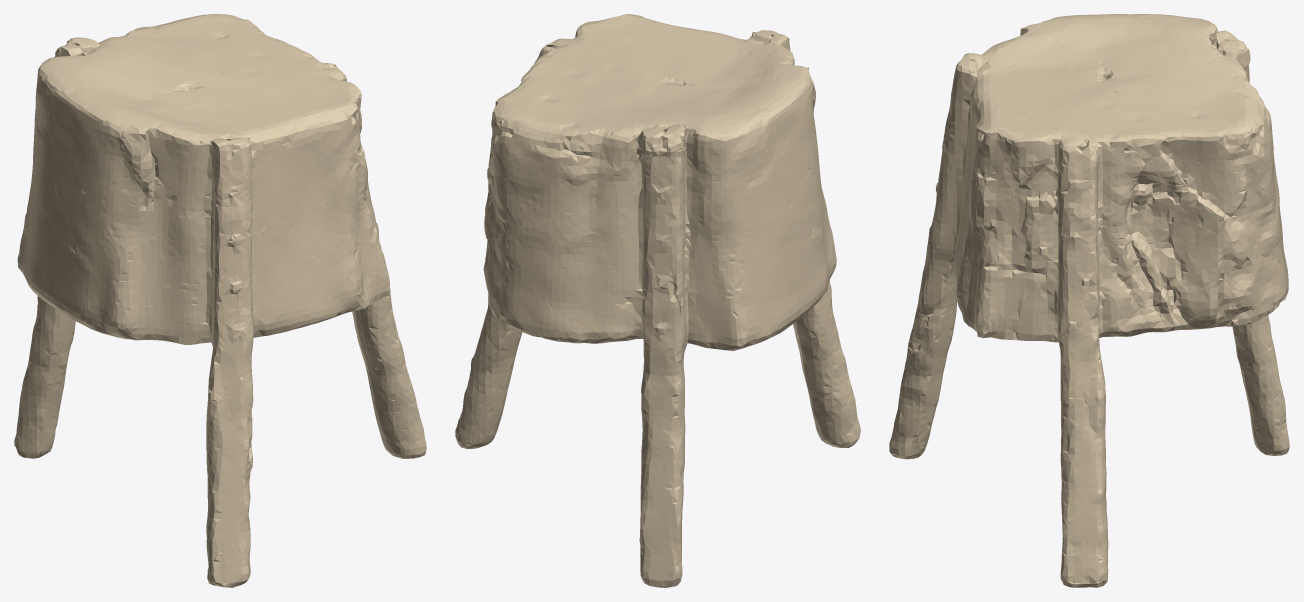
File: stolform-01.glb
3 views of the same model, side by side, from view 1: azimuth 30°, elevation 25°; view 2: azimuth 150°, elevation 25°; view 3: azimuth 270°, elevation 25° (orthographic). The views are drawn at different scales.
Visible parts, largest first — view 1: stolform-01; view 2: stolform-01; view 3: stolform-01.
Part boxes in pixels (bbox=[...]): stolform-01: bbox=[14, 14, 426, 587]; stolform-01: bbox=[455, 14, 860, 587]; stolform-01: bbox=[889, 14, 1289, 587].
Size of the model in its own units: 0.8639 by 0.9976 by 0.8566.
